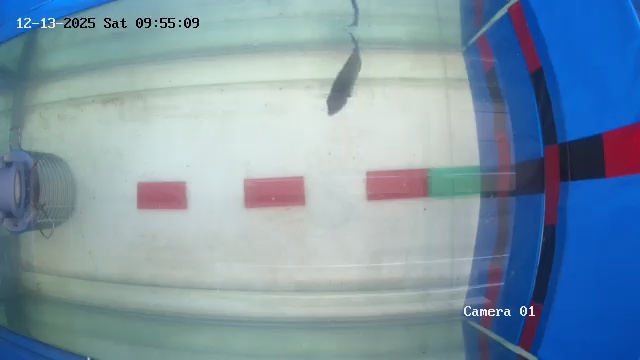fish: (320, 38, 364, 119)
